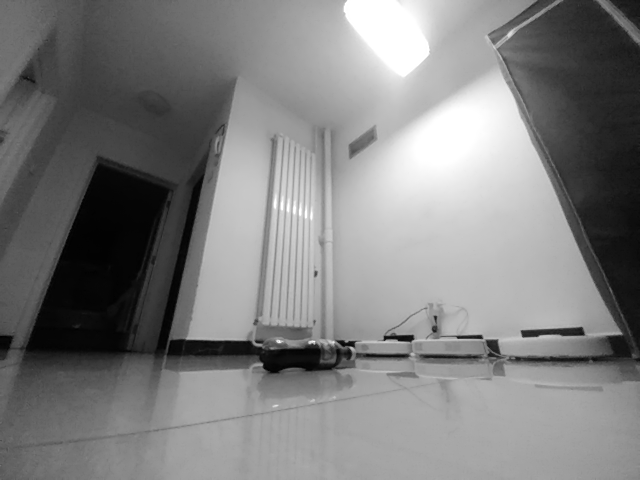others: (260, 335, 355, 375)
